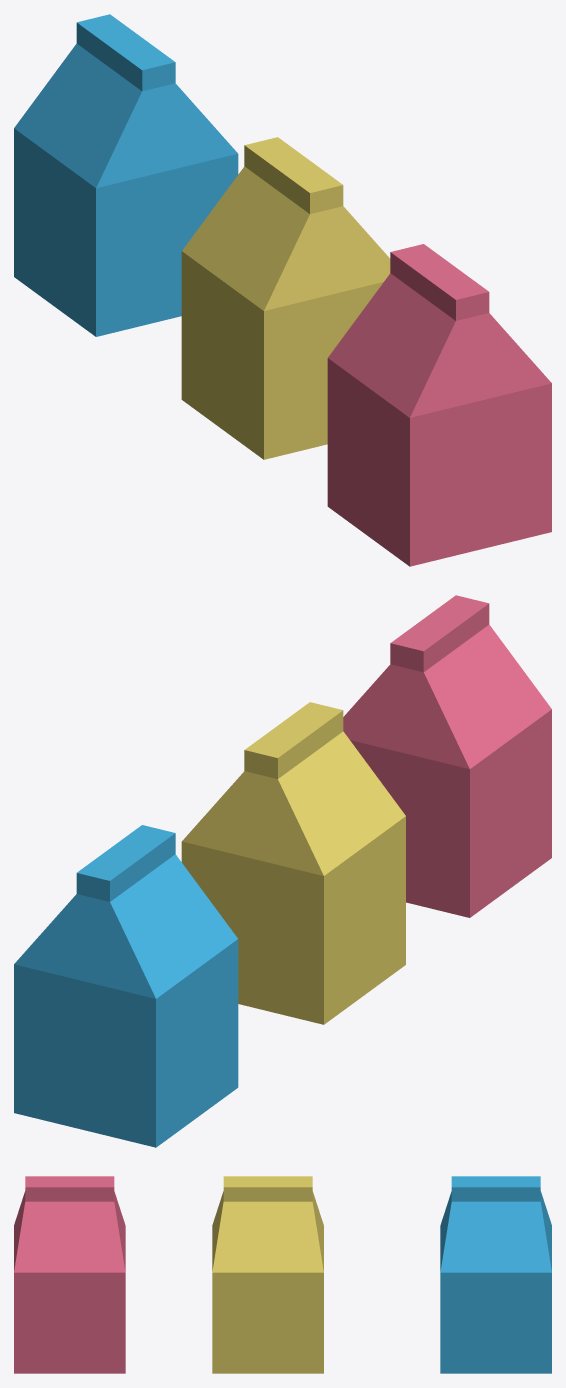
The model's file is milk.glb.
The picture shows the model from 3 angles, top to bottom: view 1: azimuth 30°, elevation 25°; view 2: azimuth 150°, elevation 25°; view 3: azimuth 270°, elevation 25°; orthographic projection. The views are drawn at different scales.
Parts seen in each view (by area): view 1: Cube.001, Cube.002, Cube; view 2: Cube.002, Cube, Cube.001; view 3: Cube, Cube.001, Cube.002.
Boxes of the visible parts, x1,y1,x2,y2 form: Cube.001: (327, 244, 551, 566); Cube.002: (14, 14, 238, 336); Cube: (181, 137, 390, 459); Cube.002: (14, 825, 238, 1147); Cube: (181, 702, 405, 1024); Cube.001: (343, 595, 551, 917); Cube: (212, 1176, 323, 1373); Cube.001: (14, 1176, 125, 1373); Cube.002: (440, 1176, 551, 1373).
Bounding box in the file's own units: 2 × 3.33 × 9.65.
